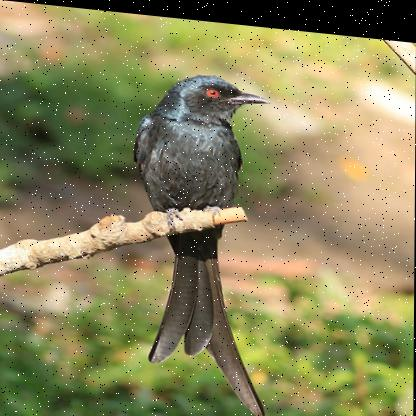Burung: (131, 62, 271, 414)
